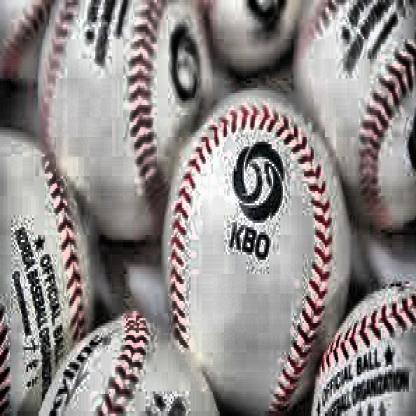baseball: (161, 94, 358, 410), (36, 1, 216, 237), (298, 0, 416, 224)
